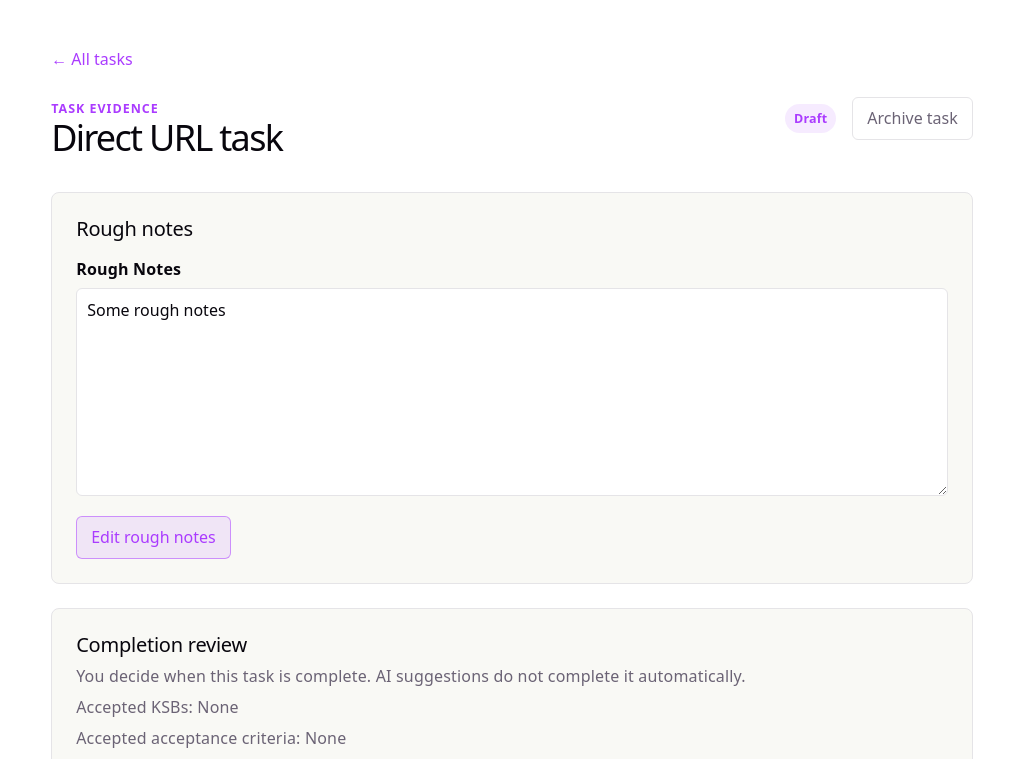
it: App routes › archives a task from its detail page and returns to the task list
The image size is (1024, 759).
Expected: the heading "Direct URL task" is shown, [51,126,282,150]
Click the button "Archive task" at (913, 119), box [852,97,973,140]
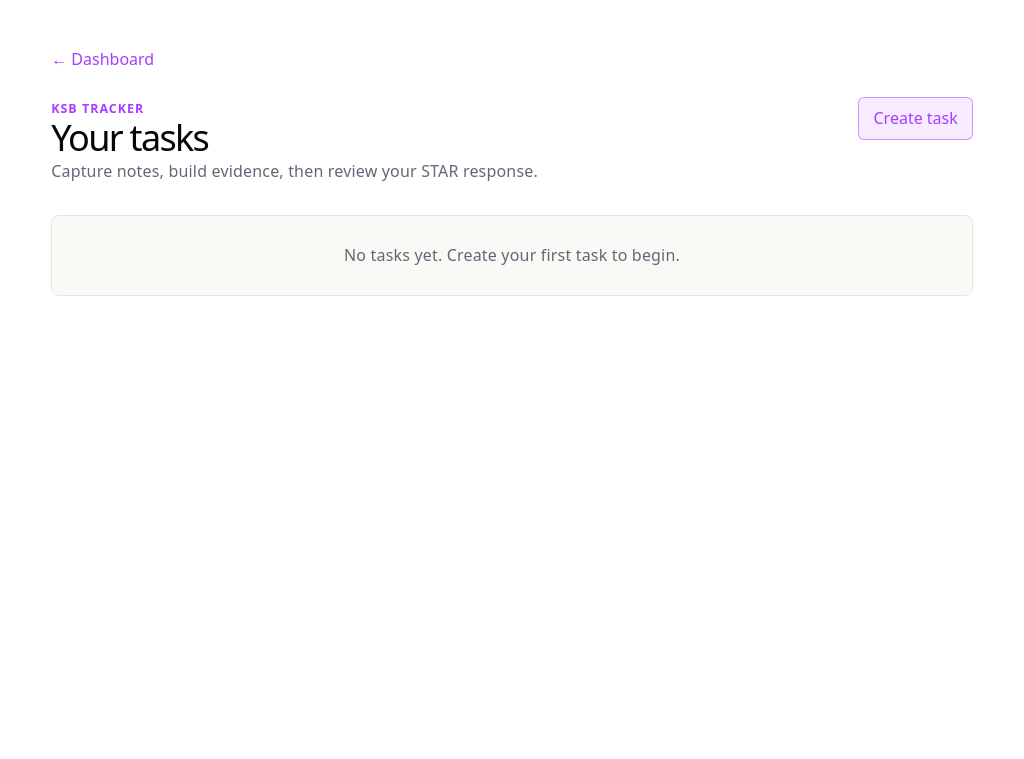
Now the heading "Your tasks" is shown, box [51,113,208,162]
